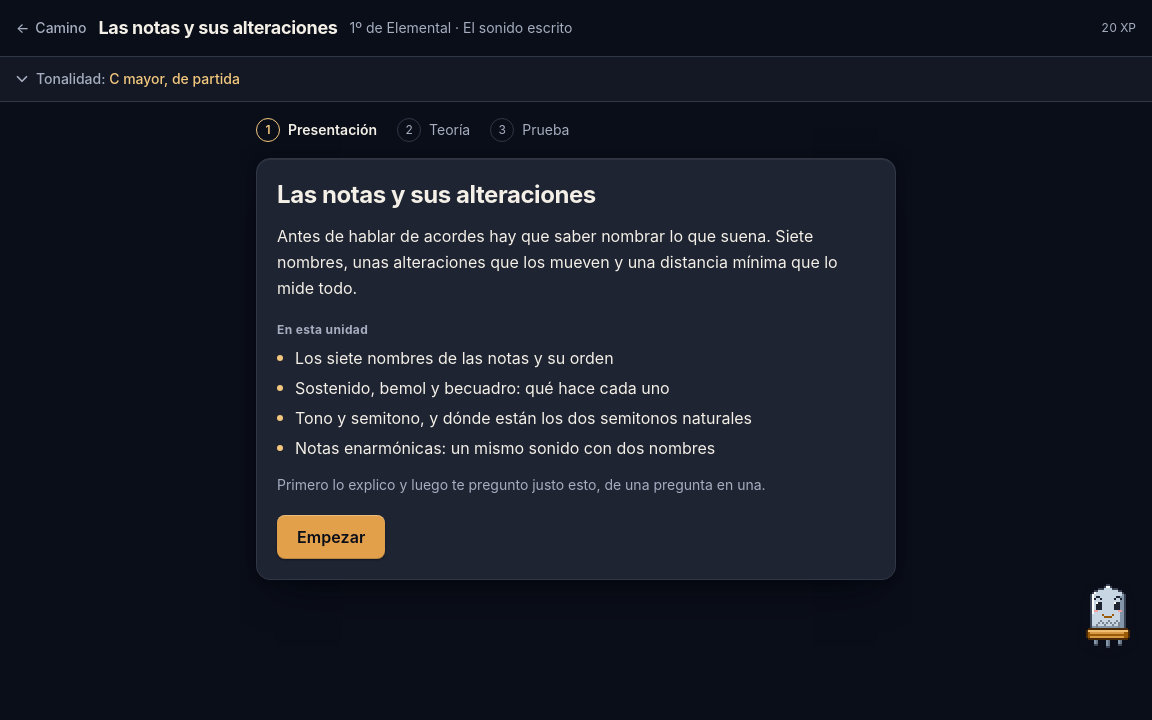
Test: la unidad abierta › sin tonalidad no la pide: la unidad se puede empezar en Do mayor
The width and height of the screenshot is (1152, 720).
Click the button "Empezar" at (331, 537), box [277,515,385,559]
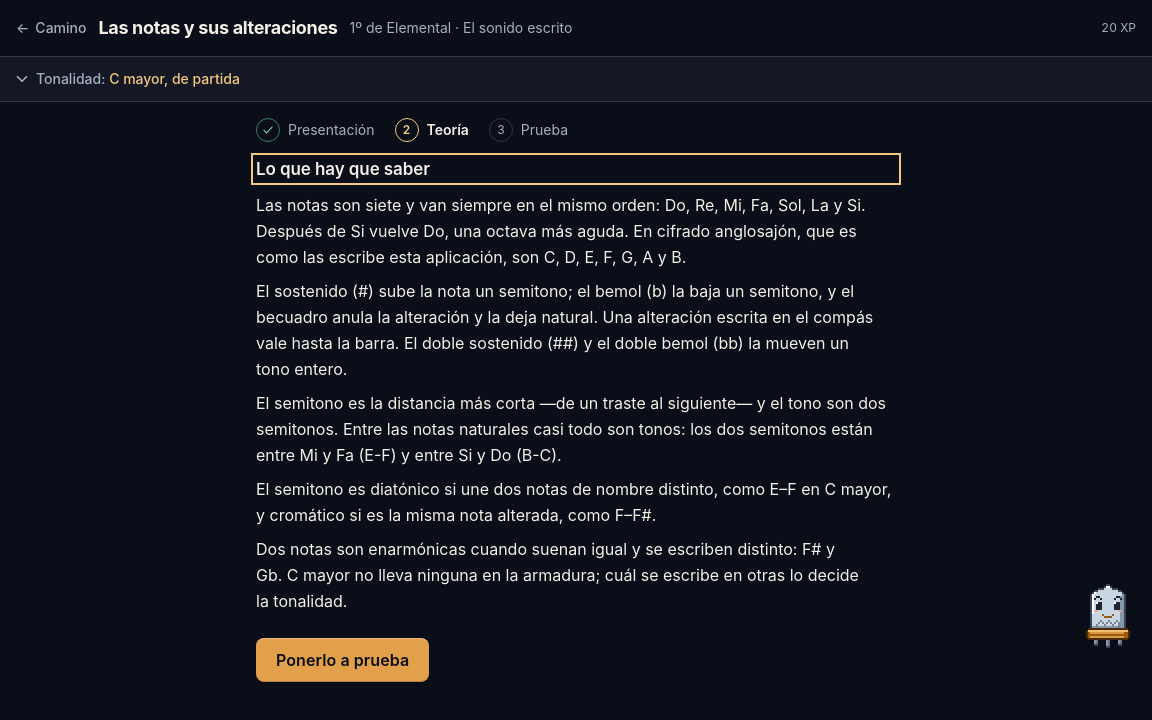
Check: the button "Ponerlo a prueba" is shown, box [256,638,429,682]
